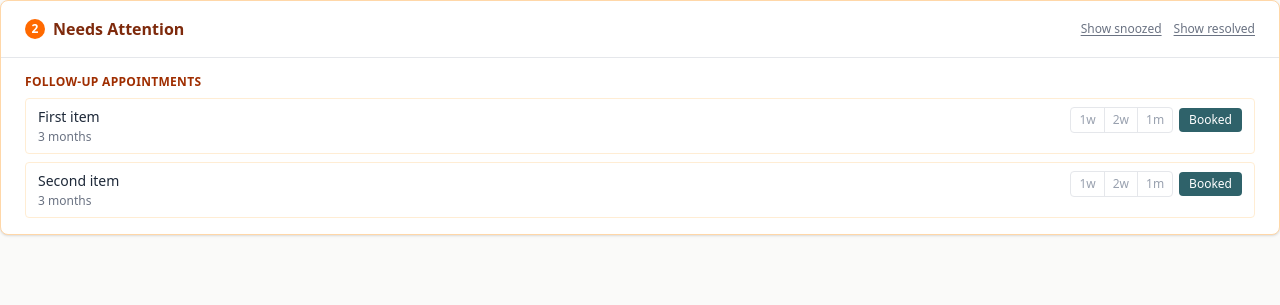
Test: ActionItemsSection › snoozing › replaces the banner on a second snooze instead of stacking two
This screenshot has width=1280, height=305.
Click the button "1w" in the row of "First item": (1088,120) [1070, 107, 1105, 133]
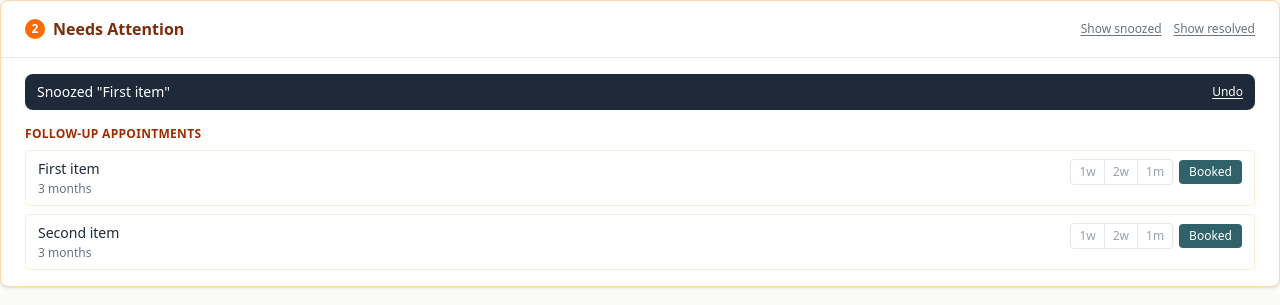
Click the button "1w" in the row of "Second item": (1088,236) [1070, 223, 1105, 249]
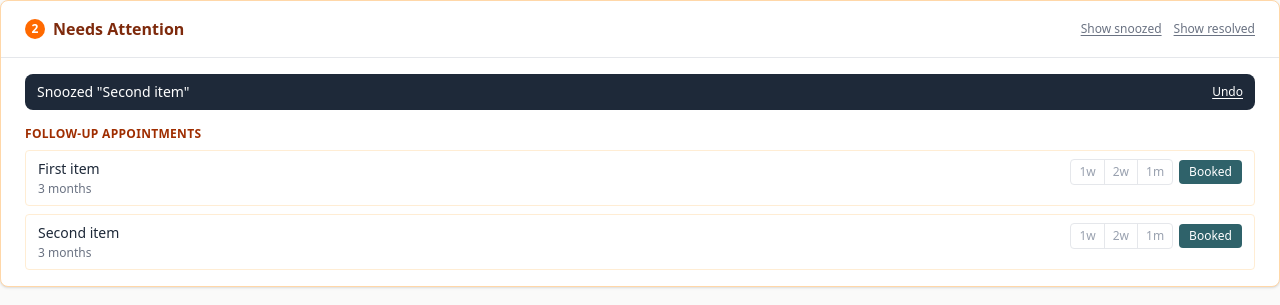
Result: the text "Snoozed \"Second item\"" is shown at [37, 82, 190, 102]
Result: the text "Snoozed \"First item\"" is gone
